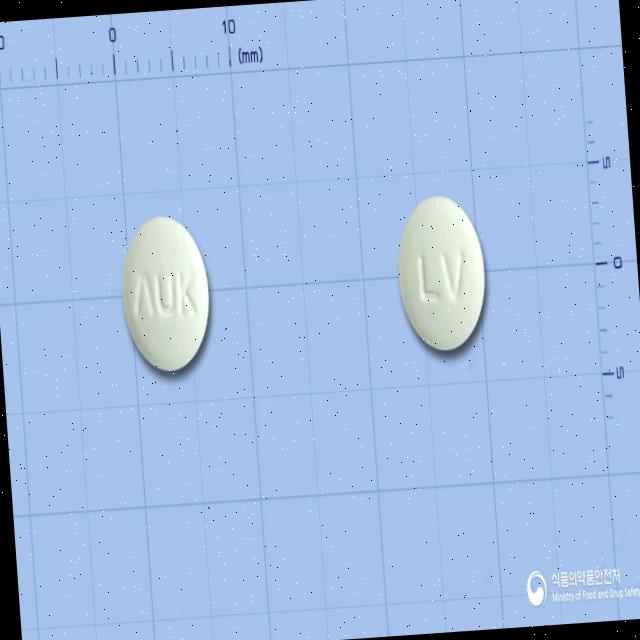Levox: (116, 211, 215, 373), (392, 192, 490, 352)
